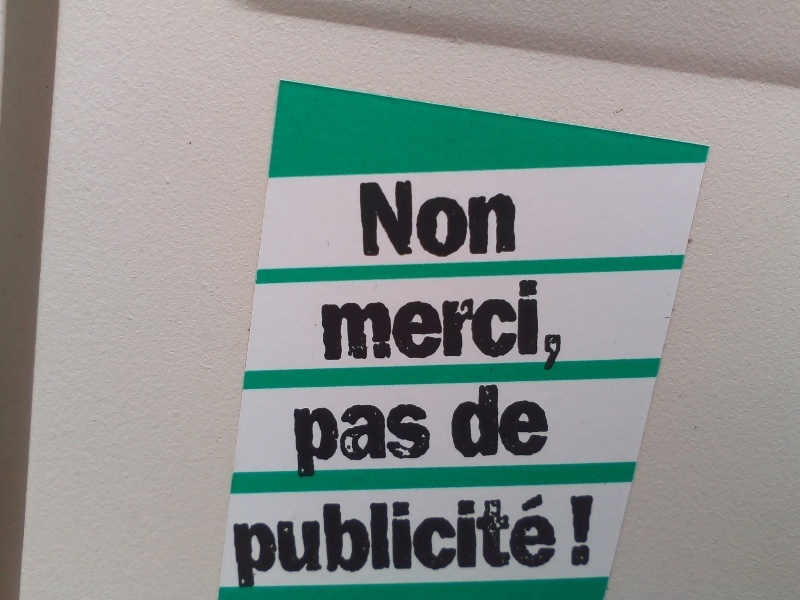text: (241, 492, 256, 591), (257, 492, 272, 591), (273, 492, 288, 591), (289, 492, 304, 591), (305, 492, 320, 591), (321, 492, 336, 591), (337, 492, 352, 591), (353, 492, 368, 591), (369, 492, 384, 591), (385, 492, 400, 591), (401, 492, 416, 591), (417, 492, 432, 591), (433, 492, 448, 591), (449, 492, 464, 591), (465, 492, 480, 591), (481, 492, 496, 591), (497, 492, 512, 591), (513, 492, 528, 591), (529, 492, 544, 591), (545, 492, 560, 591), (561, 492, 576, 591), (577, 492, 592, 591), (321, 278, 336, 372), (337, 278, 352, 372), (353, 278, 368, 372), (369, 278, 384, 372), (385, 278, 400, 372), (401, 278, 416, 372), (417, 278, 432, 372), (433, 278, 448, 372), (449, 278, 464, 372), (465, 278, 480, 372), (481, 278, 496, 372), (497, 278, 512, 372), (513, 278, 528, 372), (529, 278, 544, 372), (545, 278, 560, 372), (417, 400, 433, 479), (369, 178, 384, 258), (385, 178, 400, 258), (401, 178, 416, 258), (417, 178, 432, 258), (433, 178, 448, 258), (449, 178, 464, 258), (465, 178, 480, 258), (481, 178, 496, 258), (497, 178, 512, 258), (228, 492, 240, 591), (305, 400, 320, 479), (321, 400, 336, 479), (337, 400, 352, 479), (353, 400, 368, 479), (369, 400, 384, 479), (385, 400, 400, 479), (401, 400, 416, 479), (465, 381, 480, 459), (481, 381, 496, 459), (497, 381, 512, 459), (513, 381, 528, 459), (529, 381, 544, 459), (450, 381, 464, 459), (291, 400, 304, 479), (358, 178, 368, 258), (593, 492, 598, 591), (513, 178, 519, 258), (561, 278, 565, 372), (545, 381, 549, 459)
